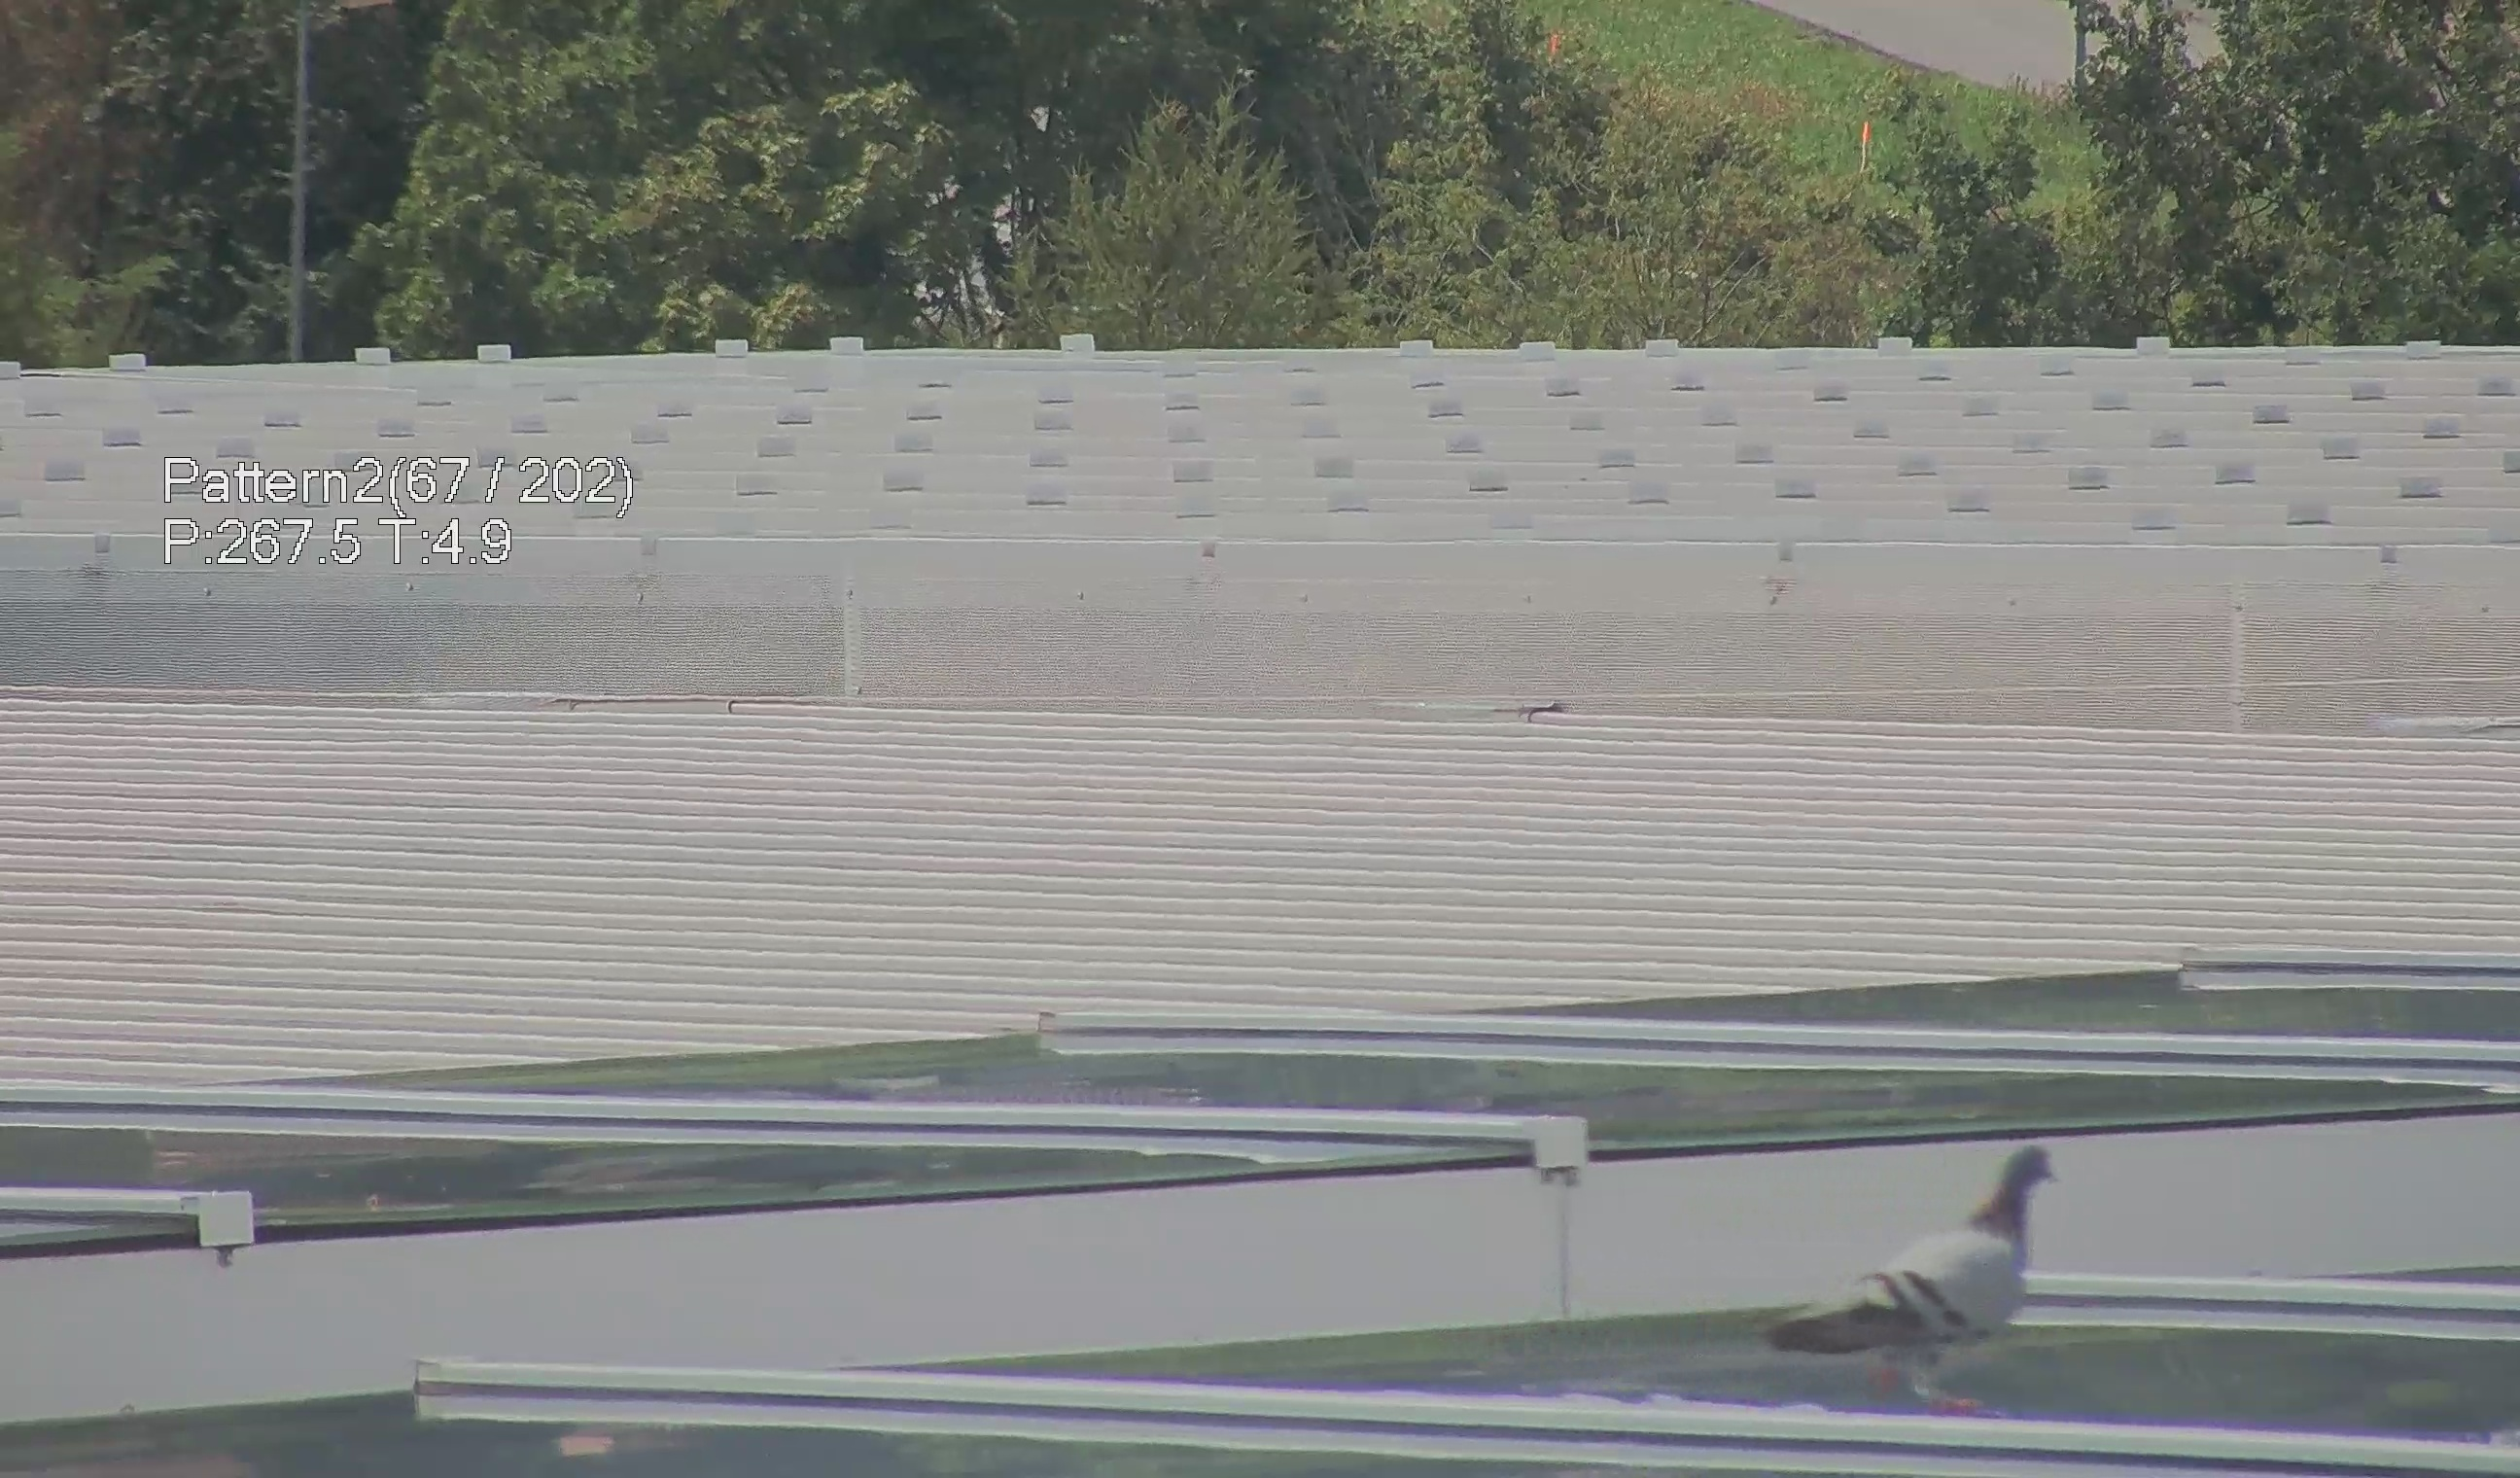Pigeon: (1767, 1147, 2077, 1387)
